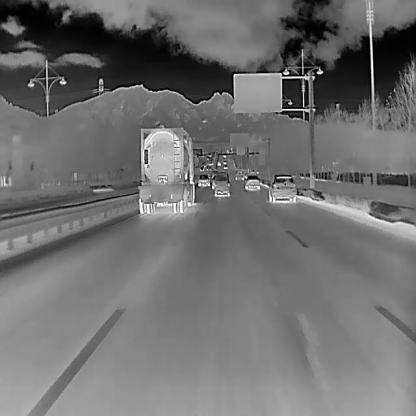car: (137, 125, 197, 213), (268, 174, 296, 202), (214, 172, 230, 197), (244, 175, 259, 189), (198, 172, 209, 186), (234, 169, 243, 180), (216, 160, 221, 167), (200, 165, 205, 171), (222, 159, 227, 164), (223, 164, 227, 169), (207, 152, 211, 157)
